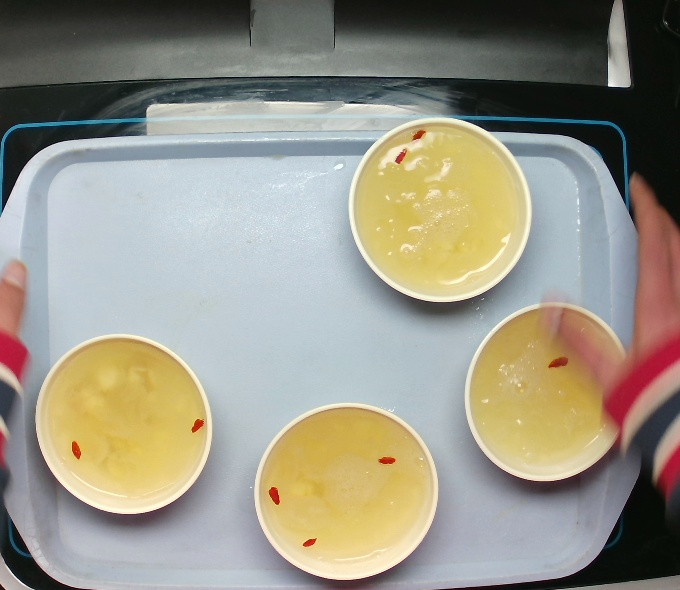wcq-YinErLianZiGeng: (338, 110, 536, 318), (242, 396, 454, 589), (33, 313, 219, 521), (456, 295, 639, 497)
